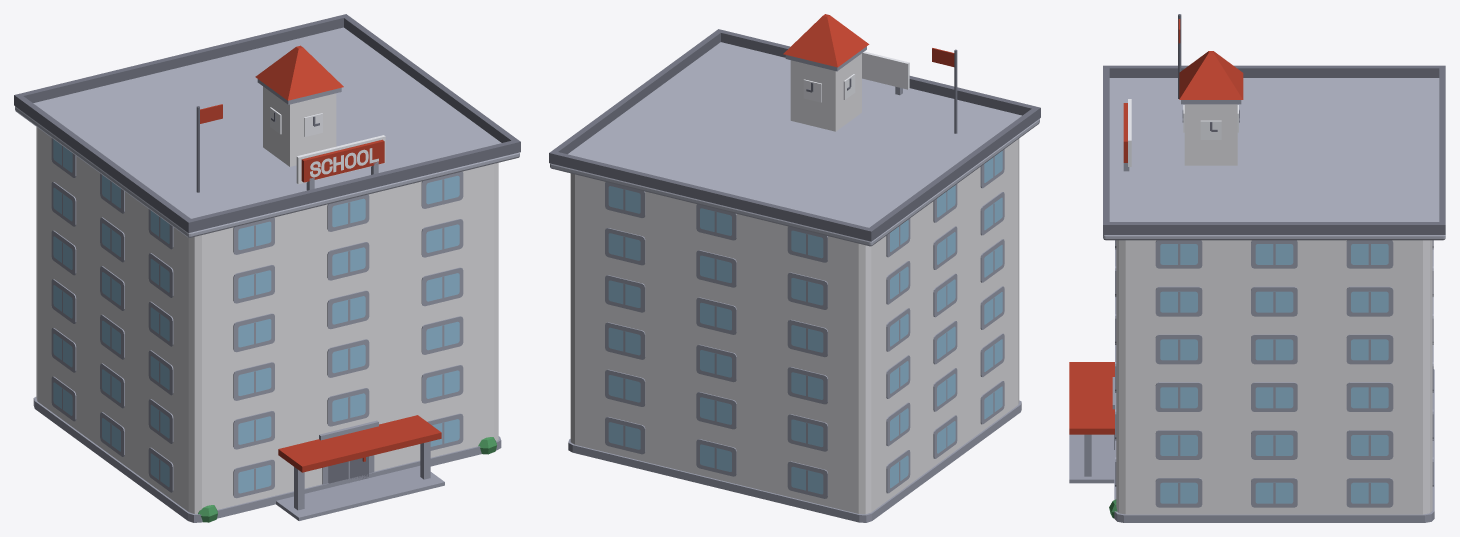
File: school-2x2-6f.glb
3 renders of one model, left to right at view 1: azimuth 30°, elevation 25°; view 2: azimuth 150°, elevation 25°; view 3: azimuth 270°, elevation 25°, orthographic. The views are drawn at different scales.
Parts seen in each view (by area): view 1: school-2x2-6f; view 2: school-2x2-6f; view 3: school-2x2-6f.
Part boxes in pixels (x1,y1,x2,y2): school-2x2-6f: [14, 14, 520, 522]; school-2x2-6f: [549, 14, 1040, 522]; school-2x2-6f: [1069, 14, 1445, 522].
Bounding box in the file's own units: 2 × 2.32 × 2.
1 material, 1 textured.
